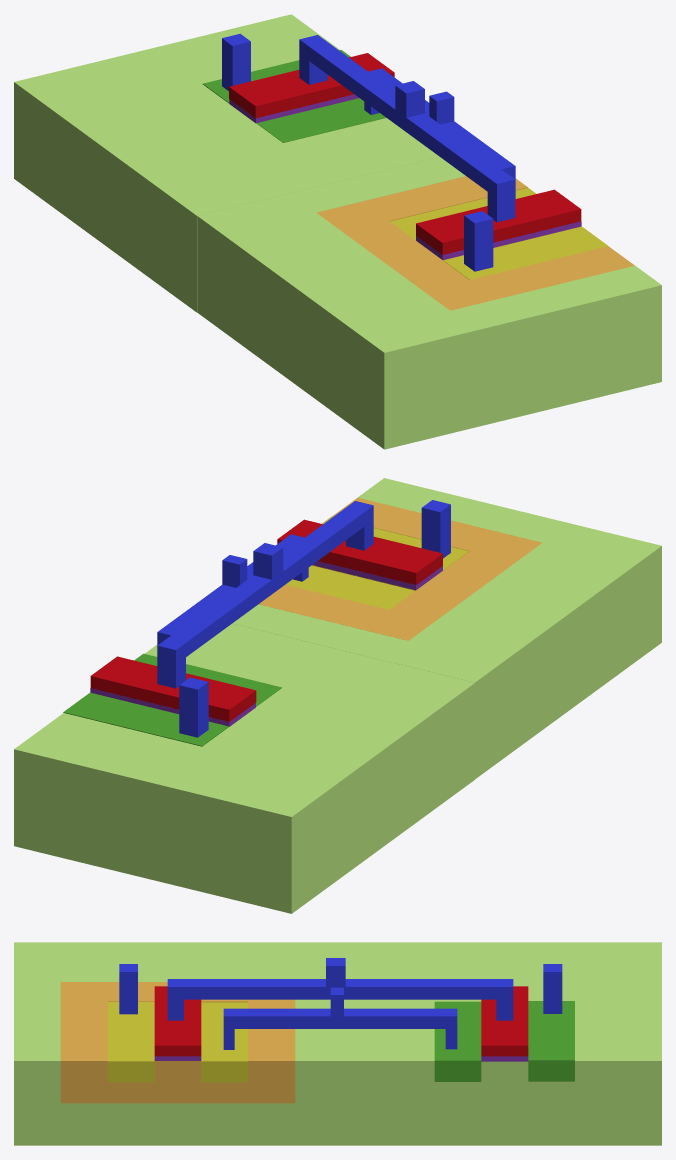
File: cmos_inverter.dae
3 renders of one model, top to bottom at view 1: azimuth 30°, elevation 25°; view 2: azimuth 150°, elevation 25°; view 3: azimuth 270°, elevation 25°, orthographic. The views are drawn at different scales.
Parts seen in each view (by area): view 1: p_substrate.001, p_substrate, n_well, Vin, p2.002, gate, p1, n1, Vout, VDD, GND, p2 (+3 smaller); view 2: p_substrate, p_substrate.001, n_well, Vin, gate, p2.002, n2, p2, Vout, GND, VDD, n1 (+3 smaller); view 3: p_substrate, p_substrate.001, n_well, Vin, Vout, p1, n2, n1, p2, gate, p2.002, GND (+1 smaller).
Part boxes in pixels (x1,y1,x2,y2): p_substrate.001: (197, 157, 661, 449); p_substrate: (14, 14, 439, 312); n_well: (316, 176, 634, 310); Vin: (299, 35, 515, 222); p2.002: (416, 189, 581, 254); gate: (229, 53, 394, 118); p1: (443, 226, 608, 279); n1: (256, 98, 386, 142); Vout: (364, 68, 515, 198); VDD: (464, 211, 493, 271); GND: (222, 33, 250, 90); p2: (390, 188, 536, 240); p_substrate: (14, 623, 474, 913); p_substrate.001: (232, 478, 661, 779); n_well: (259, 497, 542, 640); Vin: (157, 501, 373, 688); gate: (90, 656, 256, 721); p2.002: (277, 519, 442, 584); n2: (63, 692, 228, 746); p2: (286, 565, 414, 609); Vout: (157, 534, 308, 645); GND: (179, 677, 208, 737); VDD: (421, 500, 450, 558); n1: (134, 653, 282, 706); p_substrate: (341, 942, 661, 1145); p_substrate.001: (14, 942, 341, 1145); n_well: (60, 982, 295, 1103); Vin: (167, 958, 513, 1020); Vout: (223, 987, 457, 1049); p1: (107, 1002, 154, 1082); n2: (528, 1001, 574, 1081); n1: (434, 1001, 481, 1081); p2: (201, 1002, 248, 1082); gate: (481, 986, 528, 1056); p2.002: (154, 986, 201, 1056); GND: (543, 964, 562, 1013).
Size of the model in its own units: 6.01 by 13.86 by 3.65.
